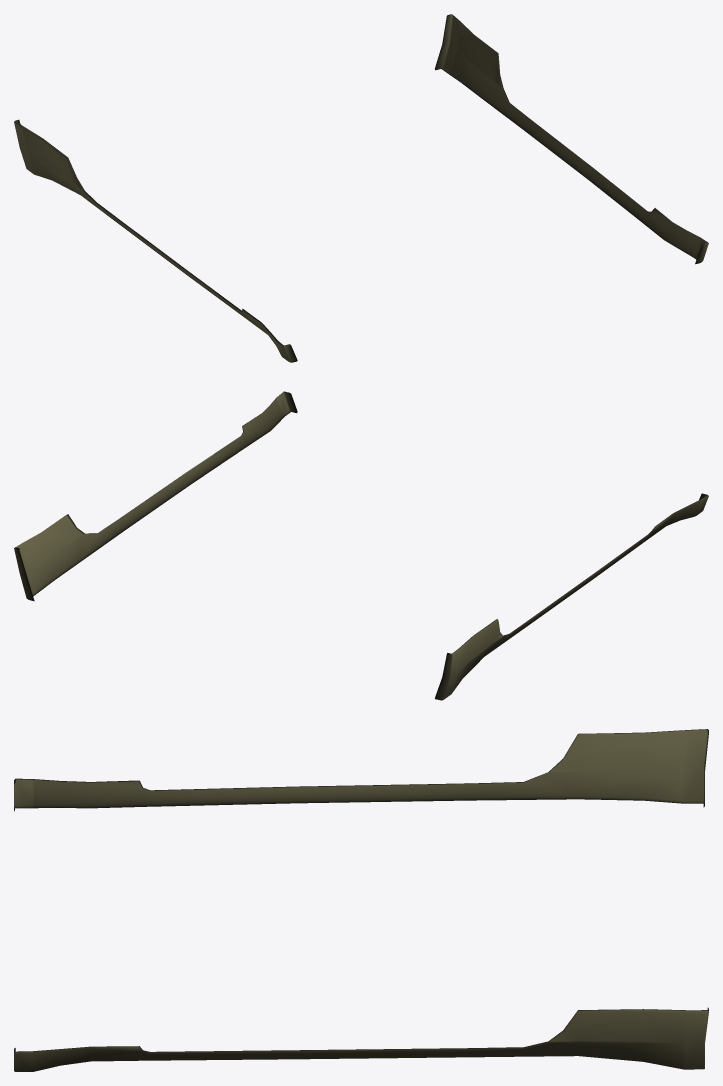
The model's file is Mustang16_Skirt_01_Duco.fbx.
3 views of the same model, one above another, from view 1: azimuth 30°, elevation 25°; view 2: azimuth 150°, elevation 25°; view 3: azimuth 270°, elevation 25° (orthographic). The views are drawn at different scales.
Visible parts, largest first — view 1: Mustang16_Skirt_01_Duco; view 2: Mustang16_Skirt_01_Duco; view 3: Mustang16_Skirt_01_Duco.
Part boxes in pixels (left/top/right/bottom): Mustang16_Skirt_01_Duco: left=14, top=14, right=708, bottom=362; Mustang16_Skirt_01_Duco: left=14, top=391, right=708, bottom=700; Mustang16_Skirt_01_Duco: left=14, top=729, right=708, bottom=1071.
Bounding box in the file's own units: 185 × 21.46 × 192.
